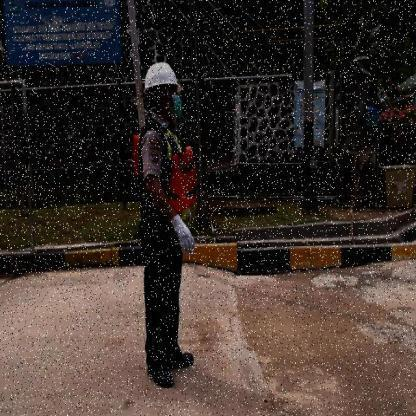boots: (142, 352, 174, 391), (164, 338, 194, 367)
gloves: (168, 213, 196, 257)
helmet: (141, 60, 183, 94)
mask: (166, 92, 184, 121)
vest: (131, 130, 203, 209)
